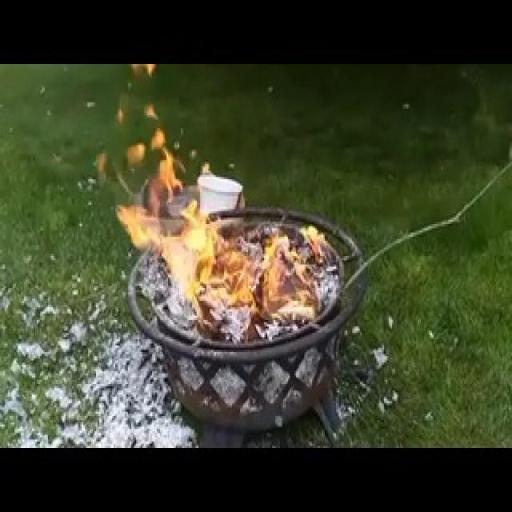smoke: (134, 108, 335, 338)
